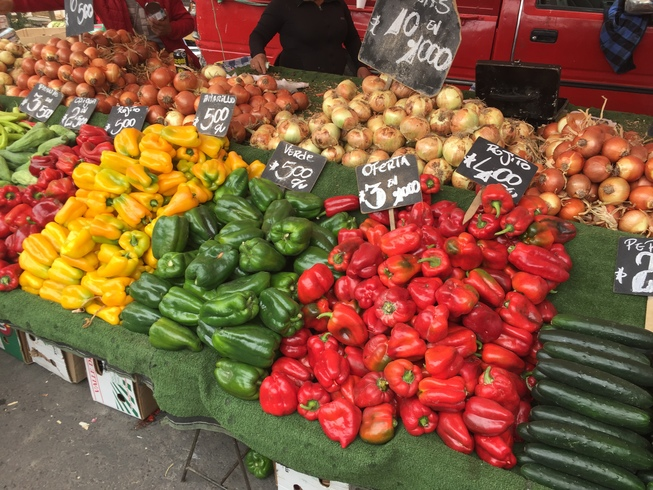precio: (347, 1, 487, 81), (456, 135, 537, 216), (351, 146, 429, 218), (258, 134, 332, 201), (187, 91, 242, 139), (616, 230, 653, 298), (17, 79, 68, 125), (110, 102, 145, 140), (65, 93, 97, 133)
